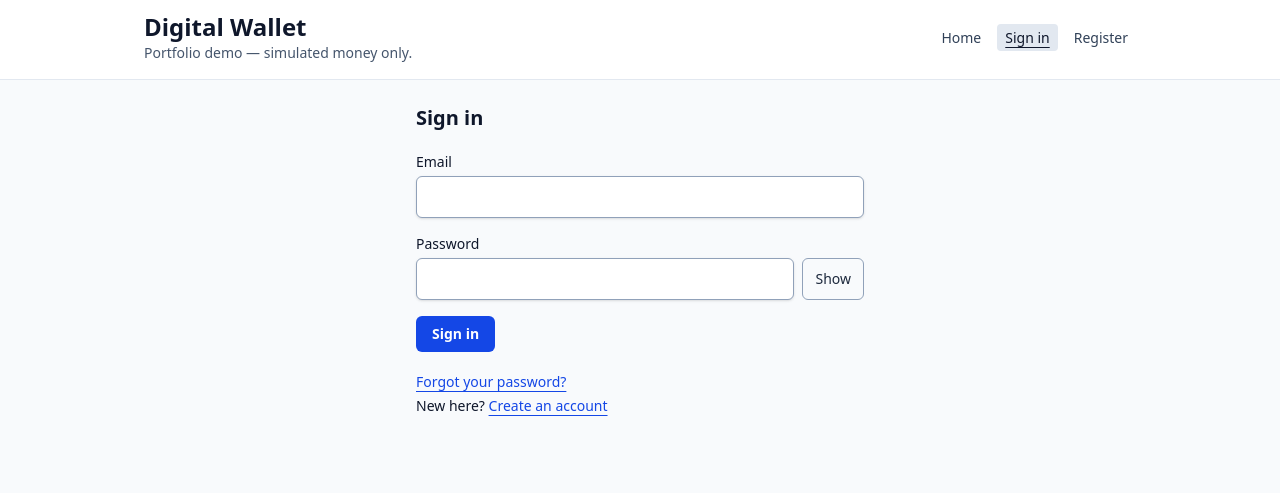
Test case: LoginPage › signs in, keeps the token in memory only and goes home
Type "a@example.com" into the field labelled "Email" at {"x": 640, "y": 197}, box [416,176,864,218]
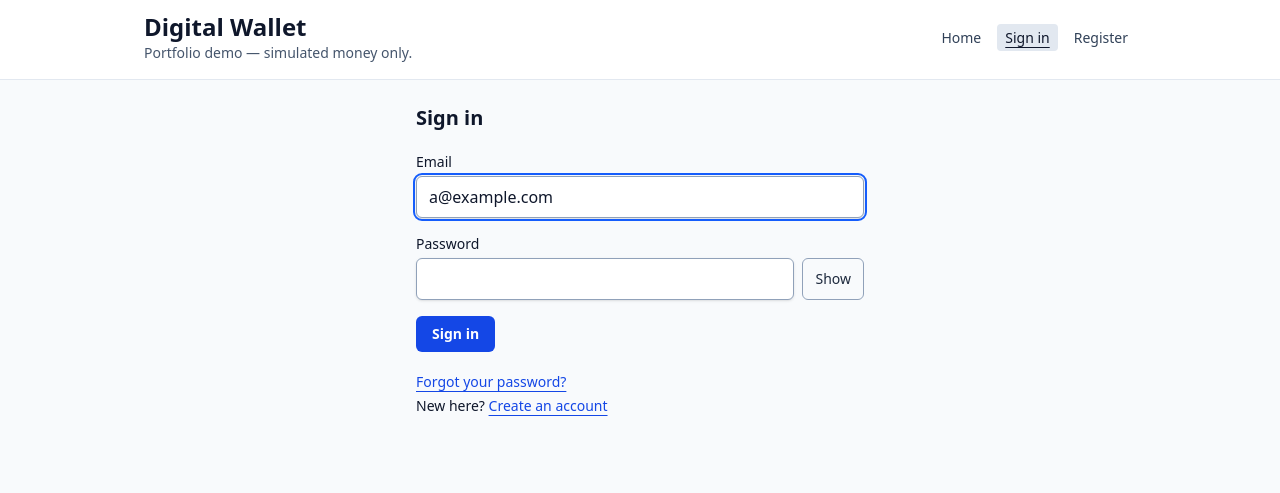
Type "correct horse battery" into the password field labelled "Password" at {"x": 605, "y": 279}, box [416,258,794,300]
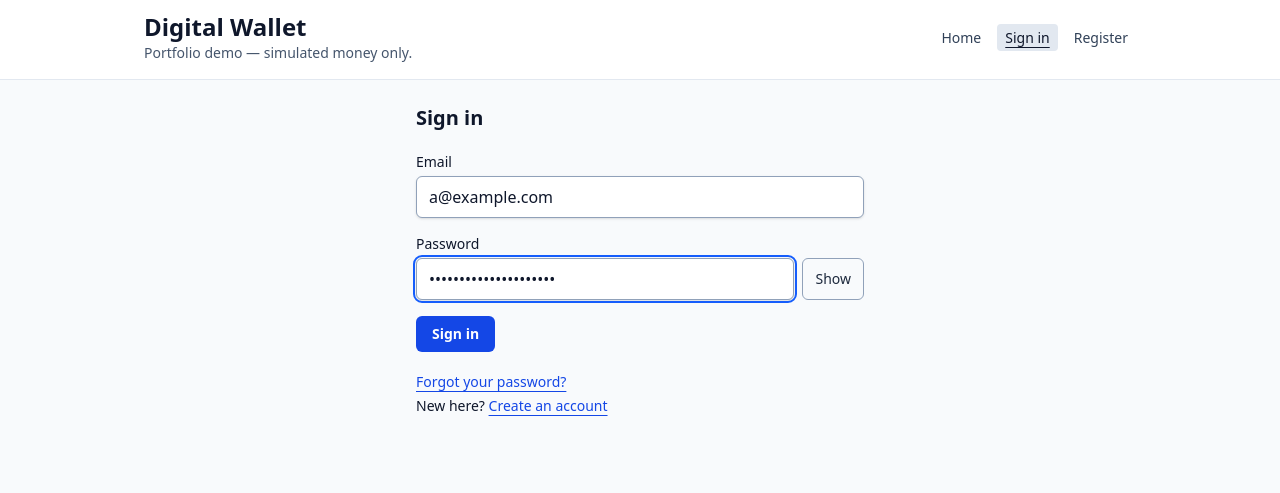
Click the button "Sign in" at {"x": 456, "y": 334}, box [416,316,495,352]
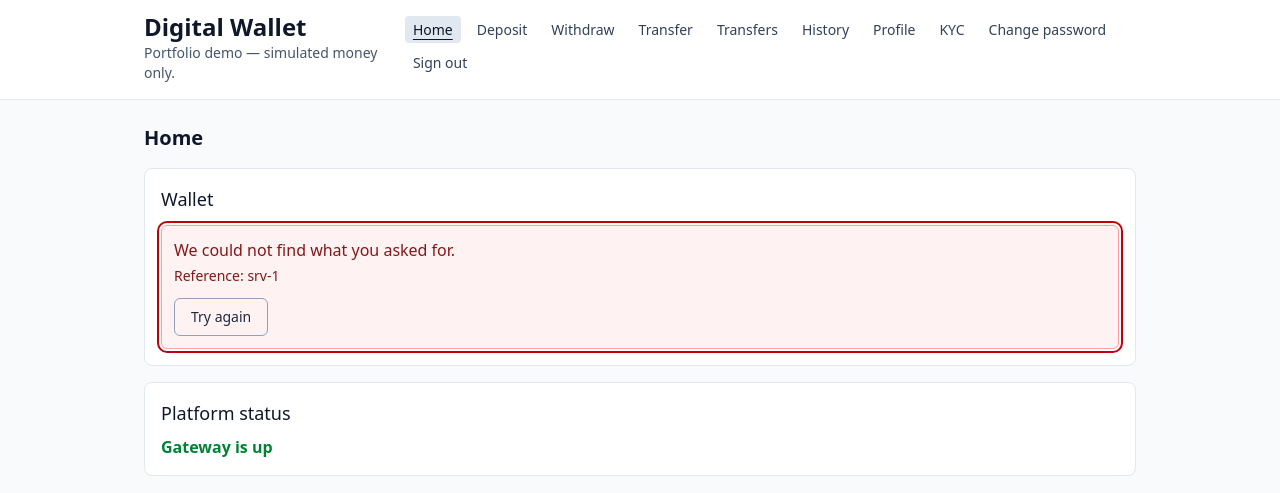
Now the heading "Home" is shown, box [144,124,203,151]
